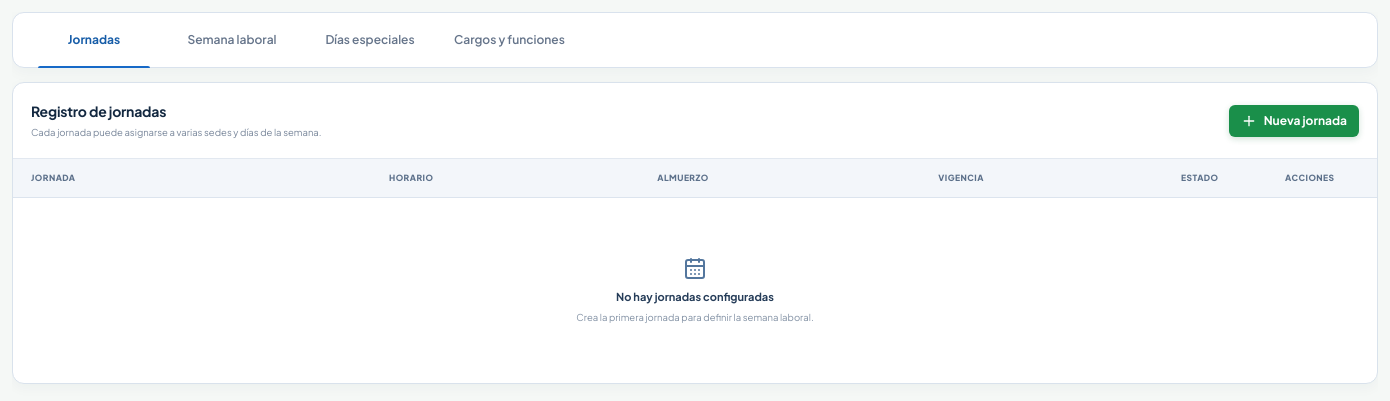
ConfigurationPanel › administra cargos dentro de Horarios y calendario
Click the button "Cargos y funciones" at (509, 40), box x1=442 y1=13 x2=577 y2=67
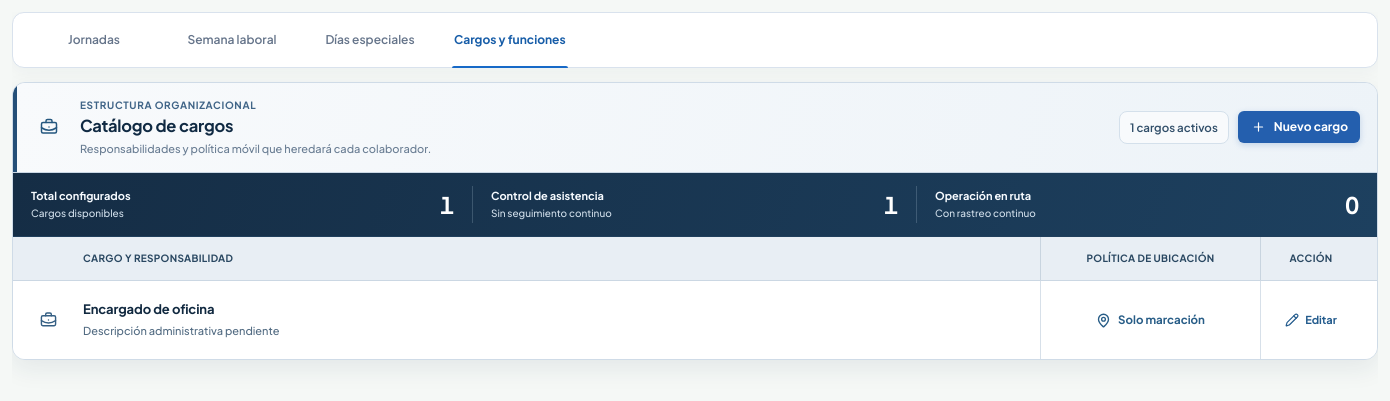
Expected: the heading "Catálogo de cargos" is shown, x1=80 y1=115 x2=233 y2=136
Expected: the text "Encargado de oficina" is shown, x1=83 y1=301 x2=214 y2=317
